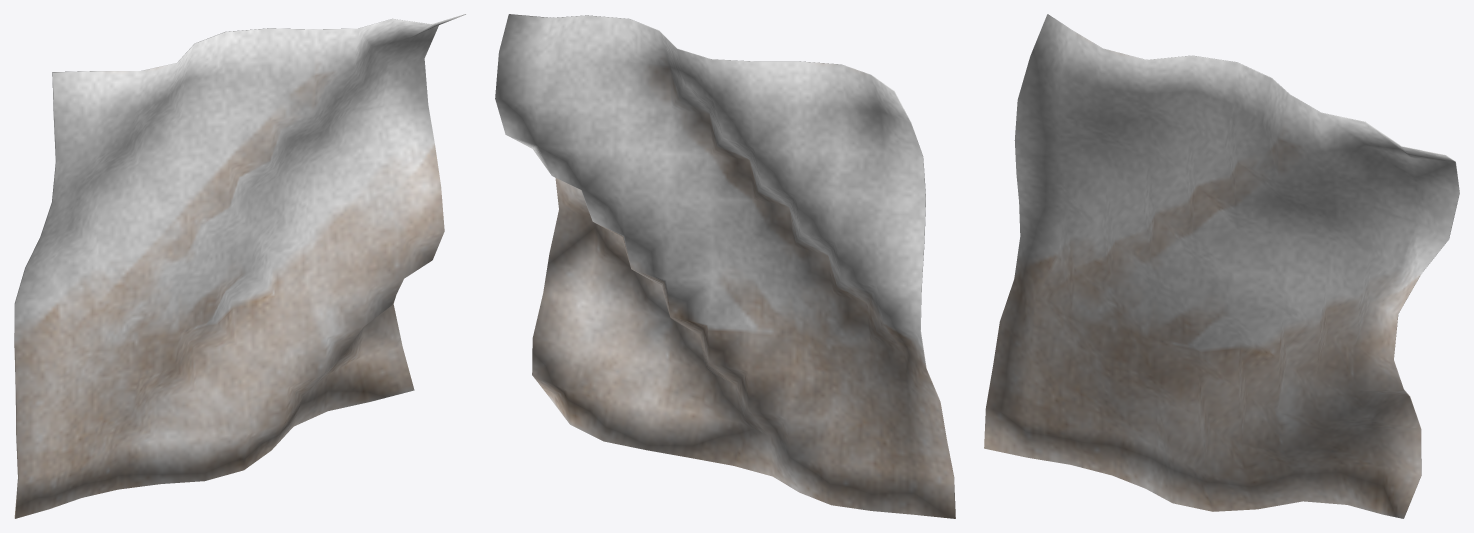
File: tissue-extruded.fbx
The picture shows the model from 3 angles, left to right: view 1: azimuth 30°, elevation 25°; view 2: azimuth 150°, elevation 25°; view 3: azimuth 330°, elevation 25°; orthographic projection. The views are drawn at different scales.
Parts seen in each view (by area): view 1: Cube.001; view 2: Cube.001; view 3: Cube.001.
Part boxes in pixels (left/top/right/bottom): Cube.001: left=14, top=14, right=465, bottom=518; Cube.001: left=495, top=14, right=955, bottom=518; Cube.001: left=984, top=14, right=1459, bottom=518.
Size of the model in its own units: 87.64 by 80.48 by 14.41.
1 material, 1 textured.
